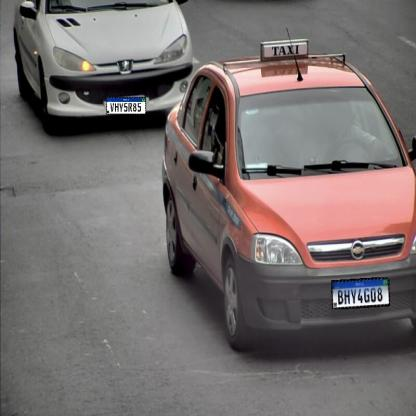PlacaM: (331, 278, 390, 310), (106, 97, 146, 114)
